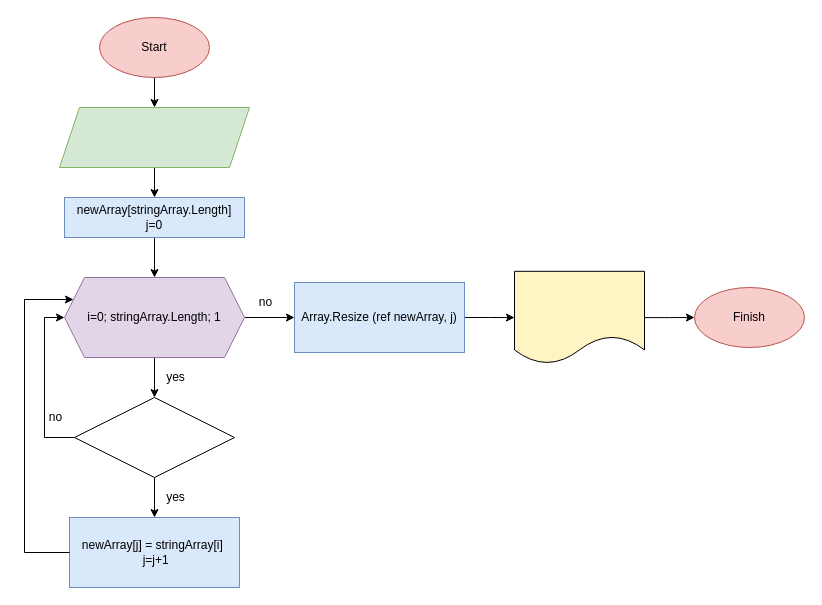
Some shapes in this 822 by 605 pixel diagram are drawn without their labels. Each missing label, with the box of its shape:
newArray: (514, 270, 644, 364)
stringArray[] = ["Hello", "2", "world", ":-)"]: (58, 106, 250, 168)
stringArray[i] < 4 ?: (74, 396, 234, 478)
